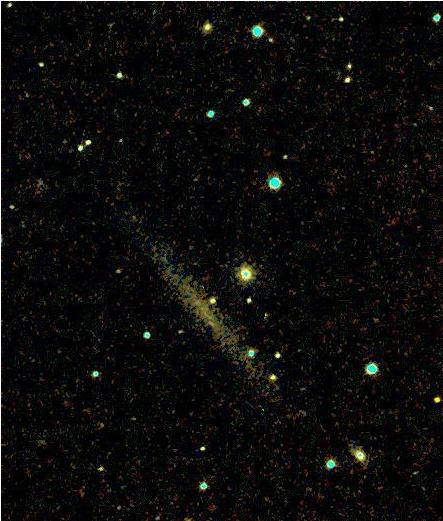star: (420, 383, 443, 413)
